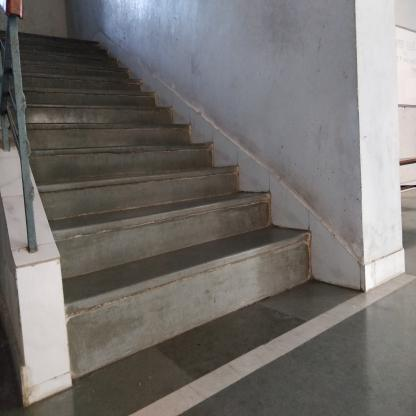stairs: (57, 116, 172, 399)
